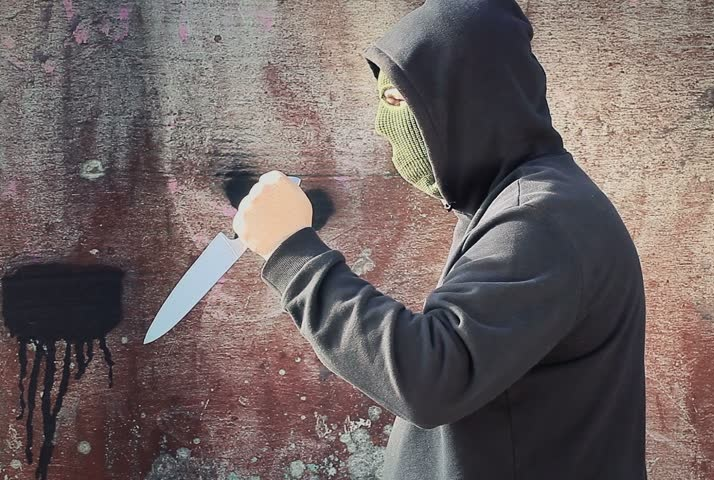knife: (134, 170, 280, 350)
